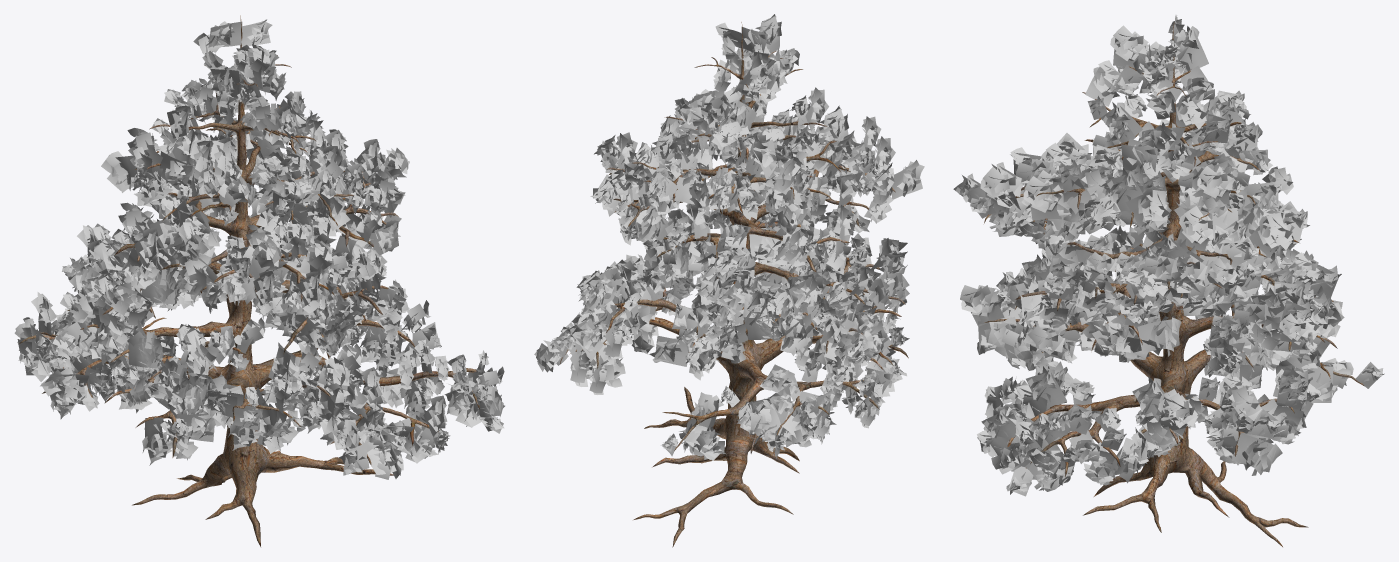
Rendered from TreePack1Tree3.fbx.
The picture shows the model from 3 angles, left to right: view 1: azimuth 30°, elevation 25°; view 2: azimuth 150°, elevation 25°; view 3: azimuth 270°, elevation 25°; orthographic projection. The views are drawn at different scales.
Visible parts, largest first — view 1: tree3, tree3|branch3-2|Dupli|539, tree3|branch3-2|Dupli|529, tree3|branch3-2|Dupli|31, tree3|branch3-2|Dupli|409, tree3|branch3-2|Dupli|589, tree3|branch3-1|Dupli|686, tree3|branch3-1|Dupli|408, tree3|branch3-2|Dupli|23, tree3|branch3-2|Dupli|515, tree3|branch3-1|Dupli|618, tree3|branch3-2|Dupli|683 (+37 smaller); view 2: tree3, tree3|branch3-2|Dupli|669, tree3|branch3-1|Dupli|372, tree3|branch3-1|Dupli|176, tree3|branch3-2|Dupli|393, tree3|branch3-2|Dupli|377, tree3|branch3-2|Dupli|515, tree3|branch3-2|Dupli|583, tree3|branch3-2|Dupli|87, tree3|branch3-1|Dupli|374, tree3|branch3-1|Dupli|606, tree3|branch3-1|Dupli|346 (+40 smaller); view 3: tree3, tree3|branch3-2|Dupli|227, tree3|branch3-2|Dupli|353, tree3|branch3-2|Dupli|23, tree3|branch3-2|Dupli|583, tree3|branch3-2|Dupli|649, tree3|branch3-2|Dupli|509, tree3|branch3-2|Dupli|627, tree3|branch3-2|Dupli|683, tree3|branch3-1|Dupli|138, tree3|branch3-2|Dupli|637, tree3|branch3-2|Dupli|659 (+59 smaller).
Boxes of the visible parts, x1,y1,x2,y2 form: tree3: [19, 15, 479, 546]; tree3|branch3-2|Dupli|539: [127, 331, 164, 371]; tree3|branch3-2|Dupli|529: [243, 237, 282, 279]; tree3|branch3-2|Dupli|31: [101, 151, 141, 192]; tree3|branch3-2|Dupli|409: [142, 417, 172, 465]; tree3|branch3-2|Dupli|589: [142, 269, 178, 307]; tree3|branch3-1|Dupli|686: [206, 21, 242, 52]; tree3|branch3-1|Dupli|408: [176, 412, 215, 441]; tree3|branch3-2|Dupli|23: [318, 357, 350, 405]; tree3|branch3-2|Dupli|515: [300, 239, 332, 288]; tree3|branch3-1|Dupli|618: [159, 151, 195, 189]; tree3|branch3-2|Dupli|683: [244, 44, 270, 89]; tree3: [560, 22, 908, 547]; tree3|branch3-2|Dupli|669: [674, 174, 710, 208]; tree3|branch3-1|Dupli|372: [649, 335, 687, 366]; tree3|branch3-1|Dupli|176: [892, 160, 924, 199]; tree3|branch3-2|Dupli|393: [747, 400, 789, 436]; tree3|branch3-2|Dupli|377: [743, 307, 785, 341]; tree3|branch3-2|Dupli|515: [819, 105, 848, 142]; tree3|branch3-2|Dupli|583: [636, 208, 668, 249]; tree3|branch3-2|Dupli|87: [668, 133, 698, 169]; tree3|branch3-1|Dupli|374: [780, 314, 813, 353]; tree3|branch3-1|Dupli|606: [749, 139, 778, 179]; tree3|branch3-1|Dupli|346: [749, 234, 782, 262]; tree3: [984, 22, 1364, 546]; tree3|branch3-2|Dupli|227: [1232, 434, 1282, 475]; tree3|branch3-2|Dupli|353: [1137, 316, 1181, 356]; tree3|branch3-2|Dupli|23: [960, 285, 1004, 326]; tree3|branch3-2|Dupli|583: [1249, 212, 1292, 257]; tree3|branch3-2|Dupli|649: [1125, 188, 1170, 227]; tree3|branch3-2|Dupli|509: [1177, 206, 1213, 251]; tree3|branch3-2|Dupli|627: [1023, 176, 1061, 220]; tree3|branch3-2|Dupli|683: [1110, 25, 1149, 68]; tree3|branch3-1|Dupli|138: [1121, 144, 1163, 179]; tree3|branch3-2|Dupli|637: [1085, 60, 1123, 106]; tree3|branch3-2|Dupli|659: [1197, 166, 1234, 204].
Bounding box in the file's own units: 848 × 1111 × 862.
